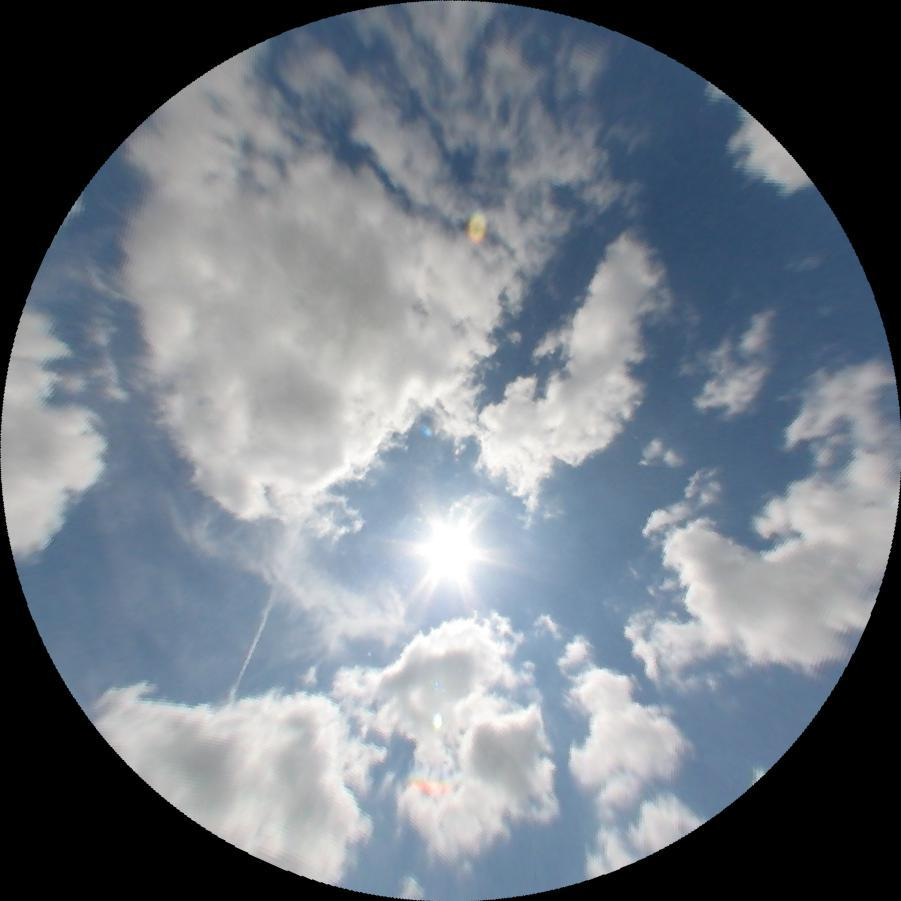contrail old: (227, 531, 302, 703)
sun: (410, 514, 492, 594)
